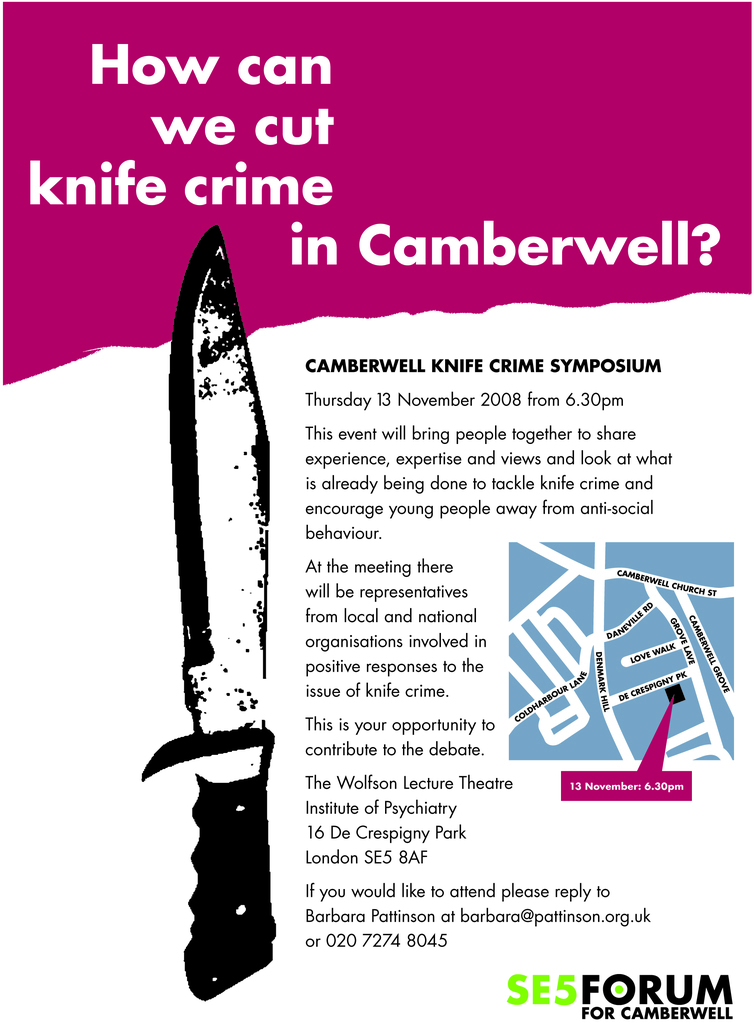k1: (135, 216, 285, 793)
